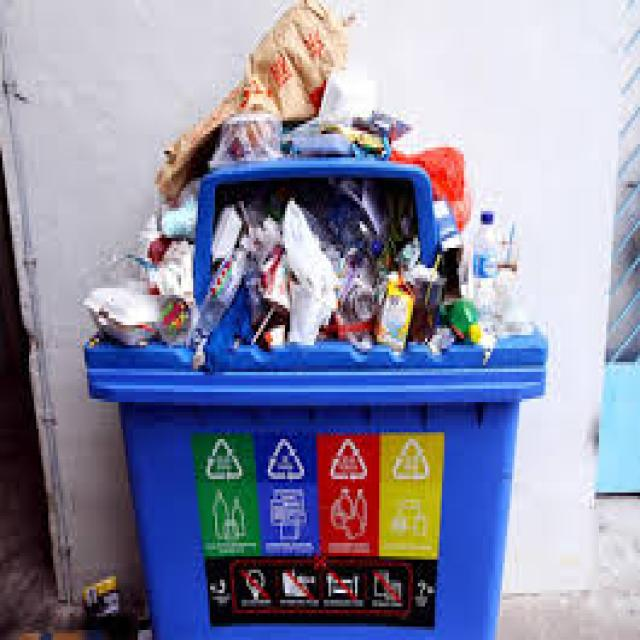bin_full: (80, 158, 546, 636)
bulk_waste: (157, 0, 355, 198)
normal_waste: (280, 198, 338, 342), (84, 278, 188, 349), (188, 241, 248, 355), (388, 144, 468, 228), (330, 262, 380, 338), (468, 208, 500, 326), (212, 110, 280, 164), (150, 238, 193, 298), (242, 204, 282, 265), (440, 295, 483, 342), (159, 194, 198, 238), (138, 208, 162, 262), (369, 238, 382, 258)
